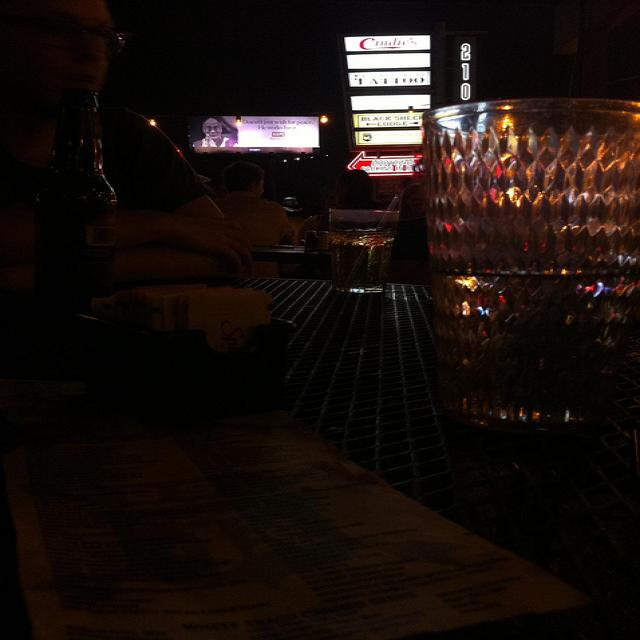Bottle: (34, 84, 135, 295)
Cup: (405, 78, 640, 429), (312, 200, 407, 298)
People: (20, 0, 282, 283), (199, 156, 300, 271)
